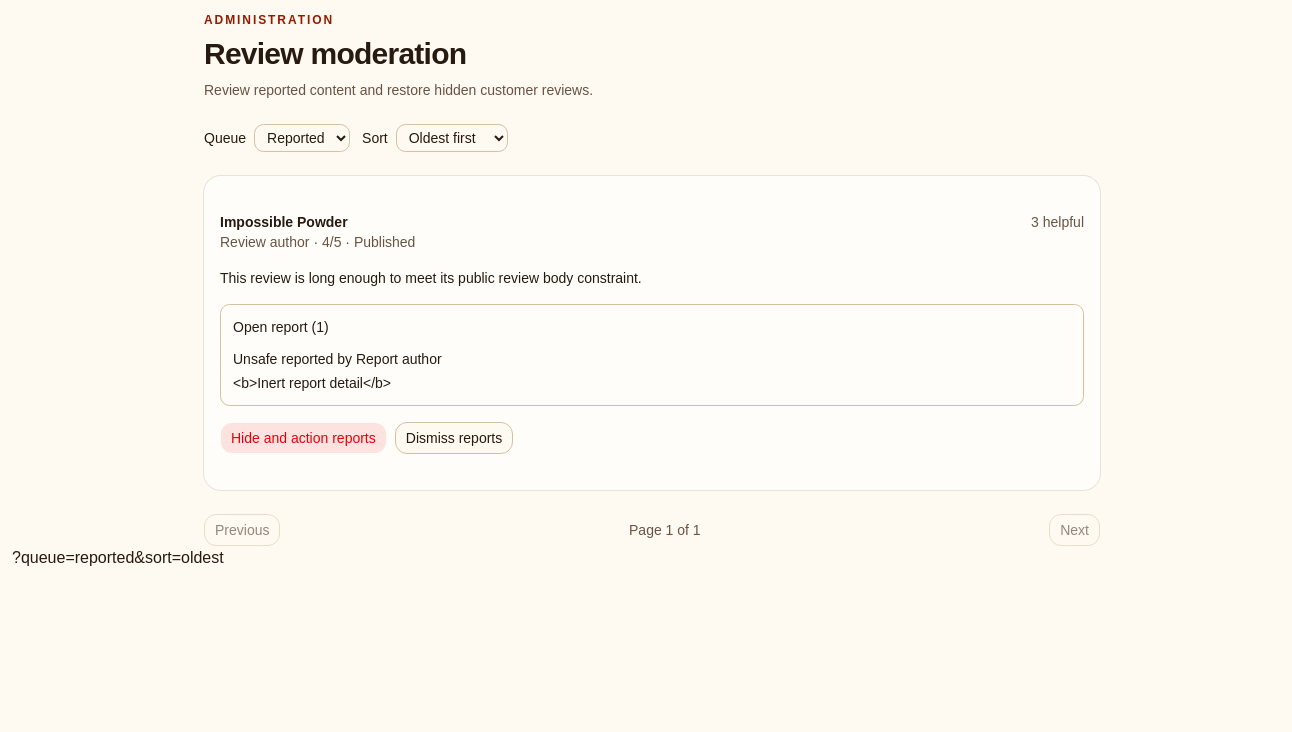
Scenario: AdminReviewModerationPage › focuses the next queue card after moderation and keeps mutation failure actionable
Expected: the heading "Impossible Powder" is shown, [220,214,348,230]
Click the button "Hide and action reports": (303, 438) [220,422,387,454]
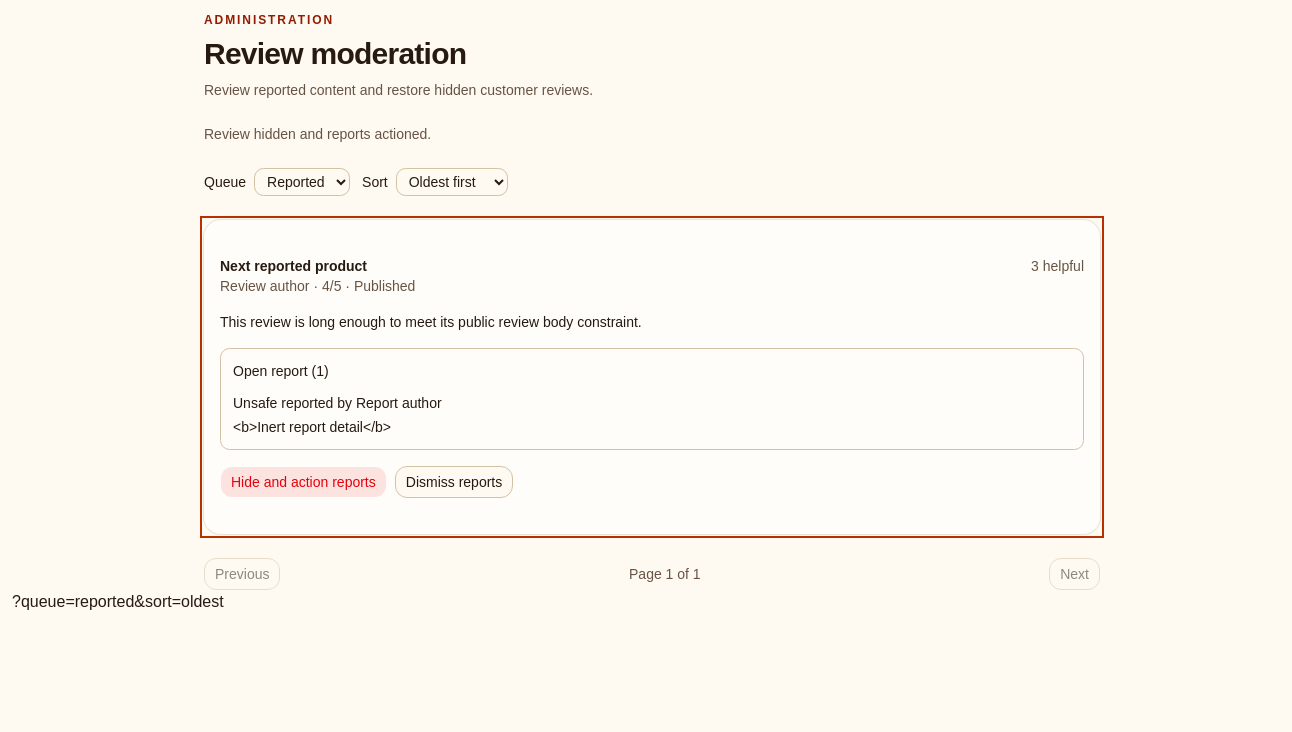
Result: the text "Review hidden and reports actioned." is shown at [204,126,431,142]
Click the button "Dismiss reports": (454, 482) [395,466,513,498]
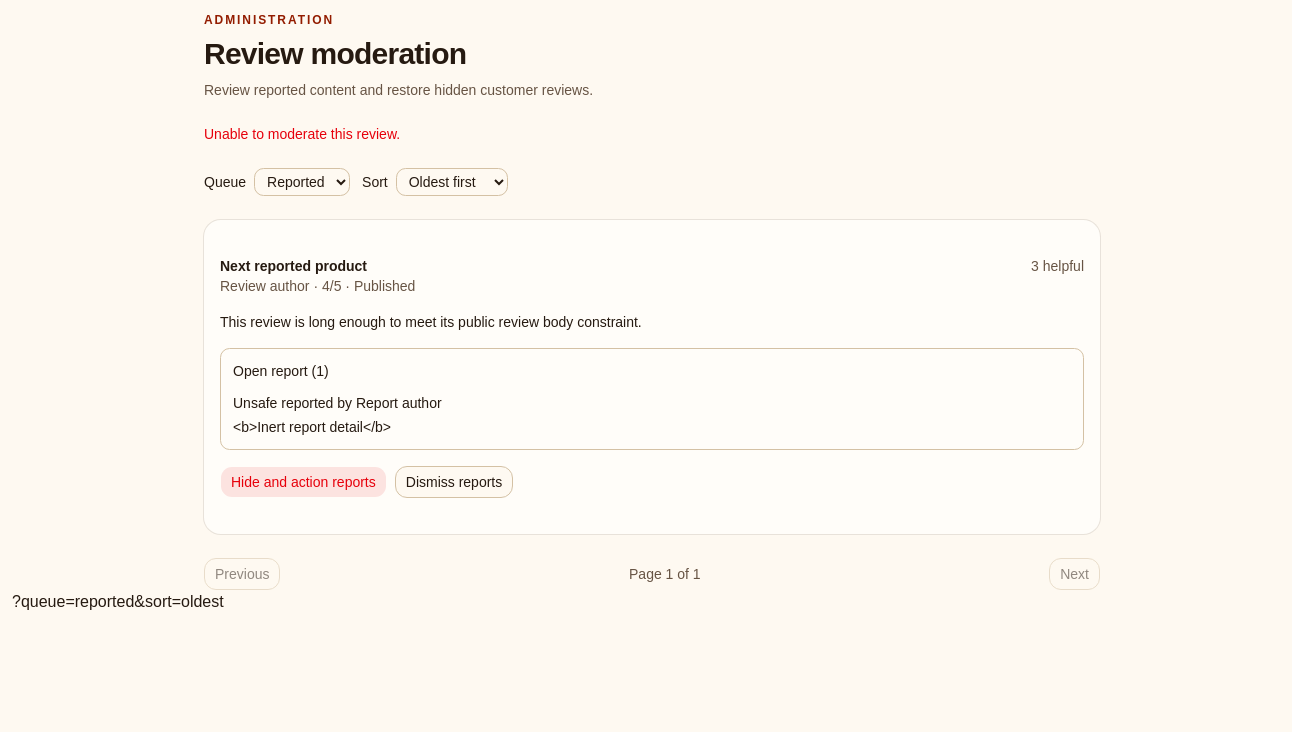
Expected: the message does not show "Unable to save decision", [204,126,400,142]
Result: the message reads "Unable to moderate this review." at [204,126,400,142]
